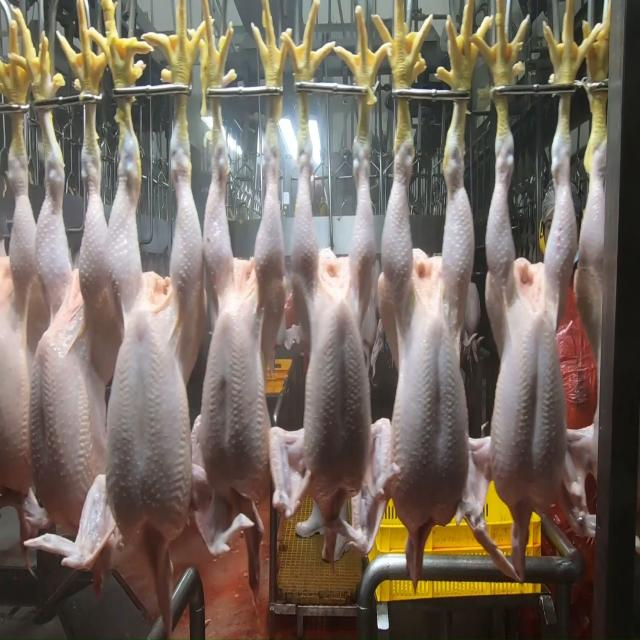chicken: (109, 134, 208, 546), (380, 113, 475, 535), (479, 131, 577, 517), (287, 104, 380, 505), (198, 132, 286, 535), (32, 116, 112, 540), (0, 131, 35, 504)
